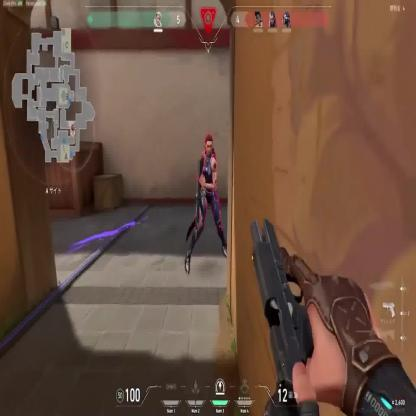enemy: (182, 132, 229, 274)
enemy_head: (203, 132, 215, 158)
